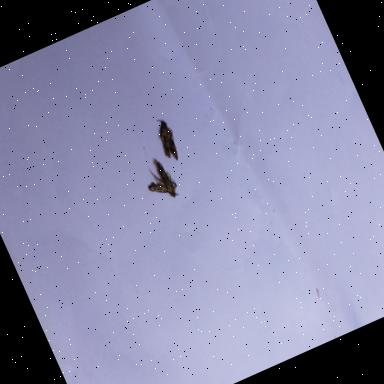pbw: (138, 152, 182, 207), (150, 113, 185, 165)
